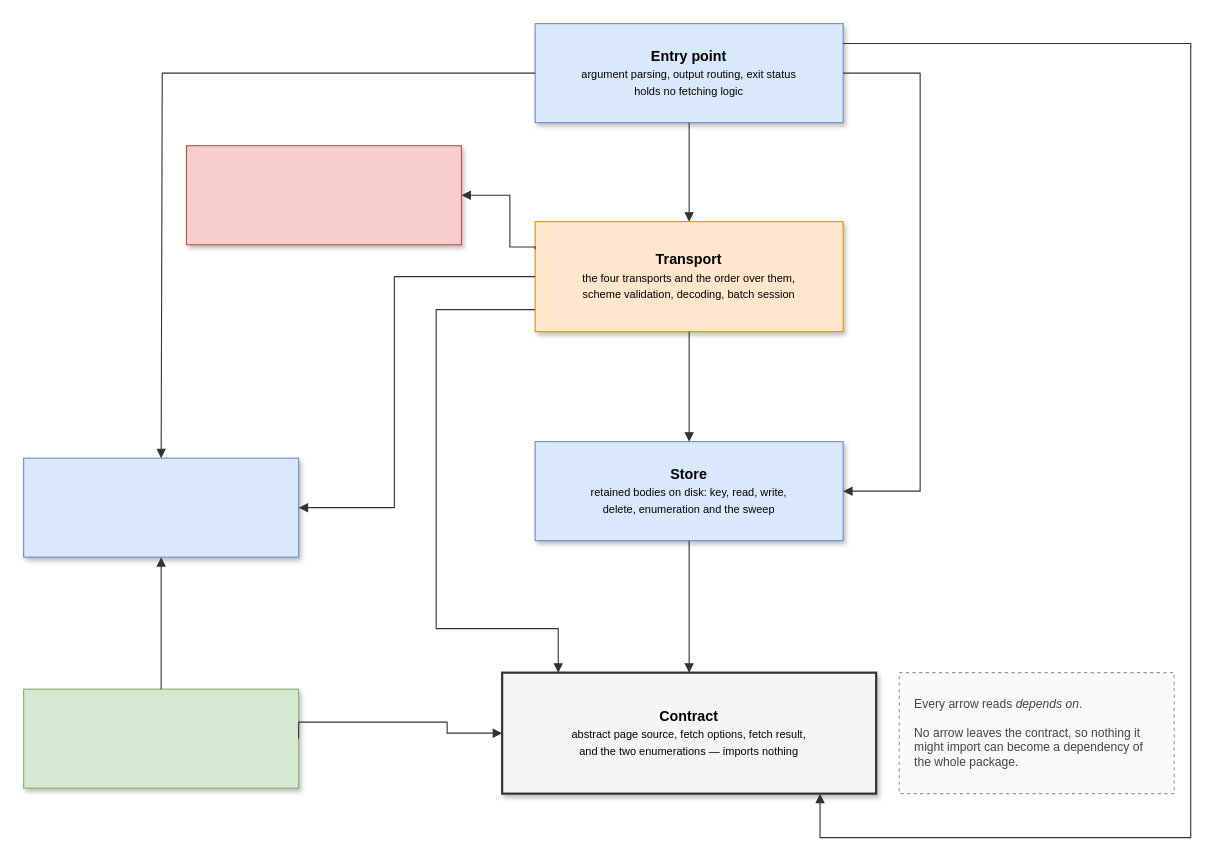
The diagram is 1219 pixels wide and 866 high, and some of its shapes have lost their labels. The shapes that lost their labels are listed below. From the top down, each one's centre as x and y in pixels, then its label:
At point 324,196: "Host cleanup the only platform-specific, side-effectful part".
At point 161,509: "Classification pure predicates over a body no I/O, no configuration".
At point 161,740: "Test double page source backed by a map published surface, not a fixture".
